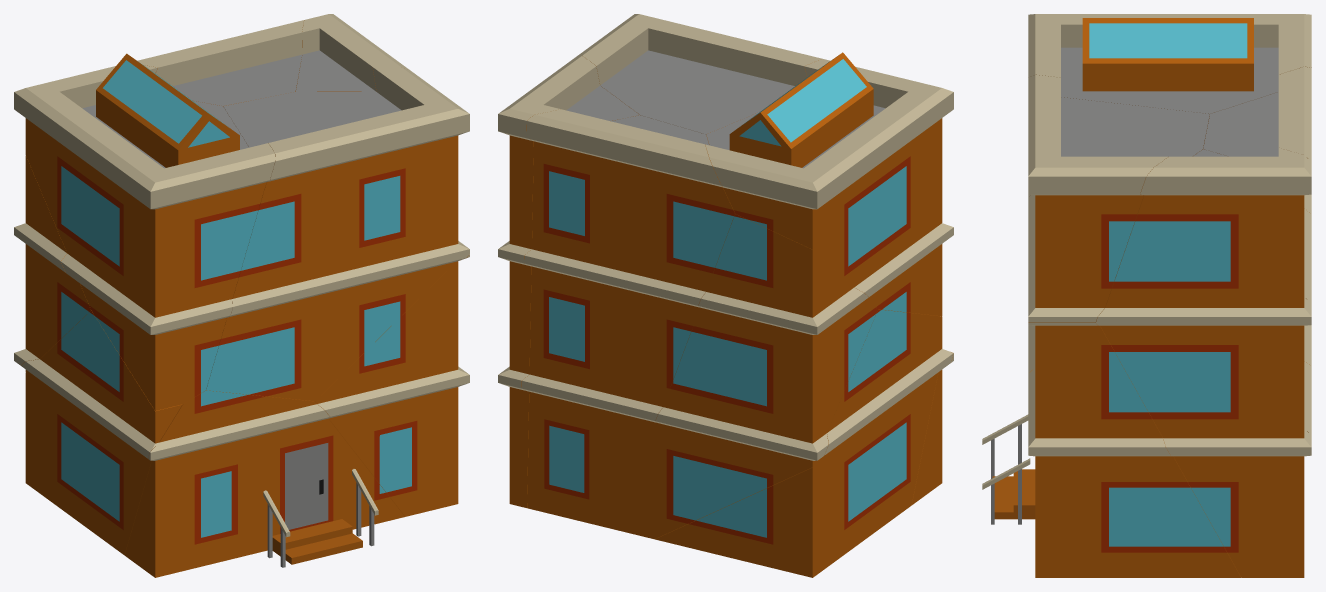
File: House 4.2 Fractured.fbx
The picture shows the model from 3 angles, left to right: view 1: azimuth 30°, elevation 25°; view 2: azimuth 150°, elevation 25°; view 3: azimuth 270°, elevation 25°; orthographic projection. The views are drawn at different scales.
Visible parts, largest first — view 1: House_02_Breaking_cell.002, House_02_Breaking_cell.004, House_02_Breaking_cell, House_02_Breaking_cell.007, House_02_Breaking_cell.005, House_02_Breaking_cell.003, House_02_Breaking_cell.001, House_02_Breaking_cell.006; view 2: House_02_Breaking_cell.003, House_02_Breaking_cell.001, House_02_Breaking_cell.004, House_02_Breaking_cell.007, House_02_Breaking_cell.002, House_02_Breaking_cell.006, House_02_Breaking_cell; view 3: House_02_Breaking_cell.006, House_02_Breaking_cell.005, House_02_Breaking_cell.002, House_02_Breaking_cell.004, House_02_Breaking_cell.003, House_02_Breaking_cell, House_02_Breaking_cell.001.
Boxes of the visible parts, <box> form: House_02_Breaking_cell.002: <box>206,67,469,401</box>; House_02_Breaking_cell.004: <box>14,53,275,410</box>; House_02_Breaking_cell: <box>124,390,404,577</box>; House_02_Breaking_cell.007: <box>21,310,182,555</box>; House_02_Breaking_cell.005: <box>315,254,469,516</box>; House_02_Breaking_cell.003: <box>137,20,304,106</box>; House_02_Breaking_cell.001: <box>14,155,91,371</box>; House_02_Breaking_cell.006: <box>296,14,411,91</box>; House_02_Breaking_cell.003: <box>521,109,734,529</box>; House_02_Breaking_cell.001: <box>617,214,877,539</box>; House_02_Breaking_cell.004: <box>705,52,953,316</box>; House_02_Breaking_cell.007: <box>655,309,952,577</box>; House_02_Breaking_cell.002: <box>578,14,821,134</box>; House_02_Breaking_cell.006: <box>498,55,639,507</box>; House_02_Breaking_cell: <box>911,352,953,504</box>; House_02_Breaking_cell.006: <box>1096,148,1311,577</box>; House_02_Breaking_cell.005: <box>1028,322,1241,577</box>; House_02_Breaking_cell.002: <box>1028,74,1209,322</box>; House_02_Breaking_cell.004: <box>1028,14,1311,196</box>; House_02_Breaking_cell.003: <box>1203,66,1311,434</box>; House_02_Breaking_cell: <box>982,325,1035,524</box>; House_02_Breaking_cell.001: <box>1304,194,1311,365</box>.
Size of the model in its own units: 354 by 454 by 304.
